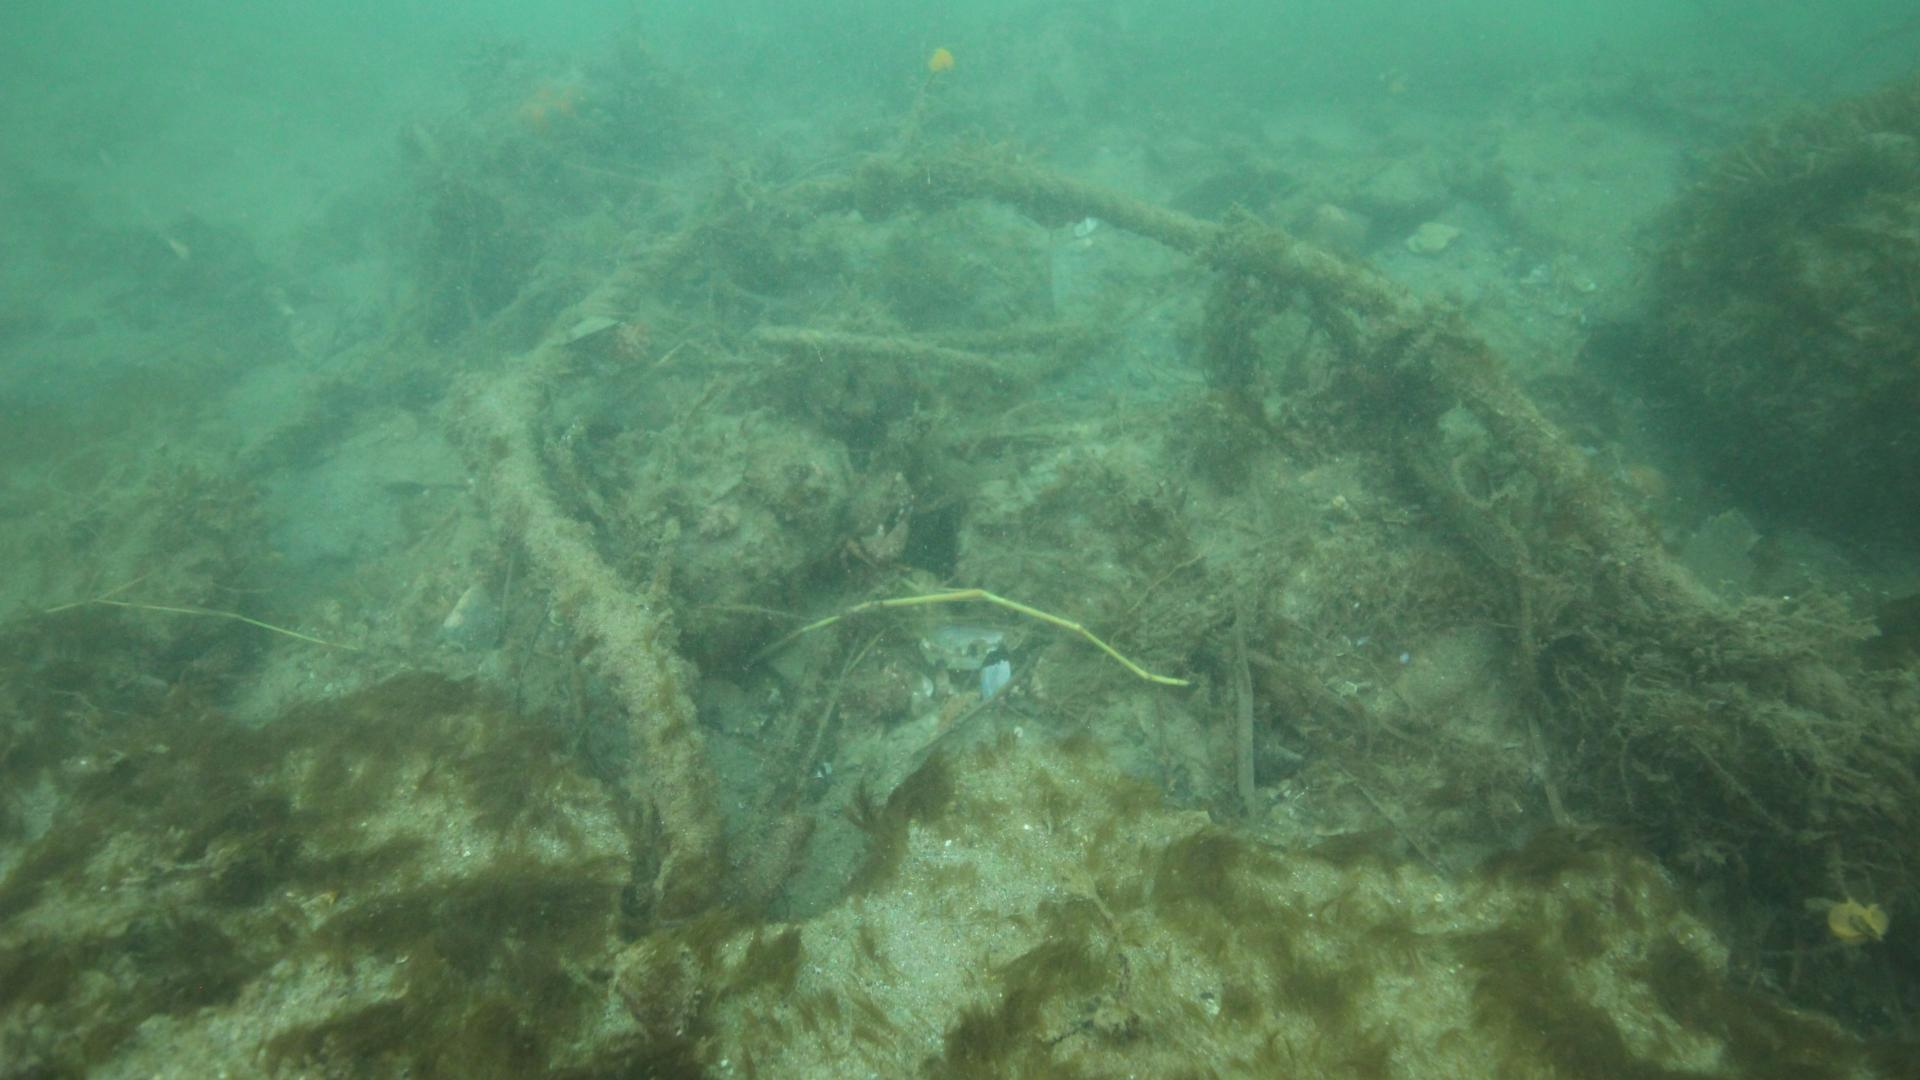bundle of ropes: (465, 153, 1855, 870)
